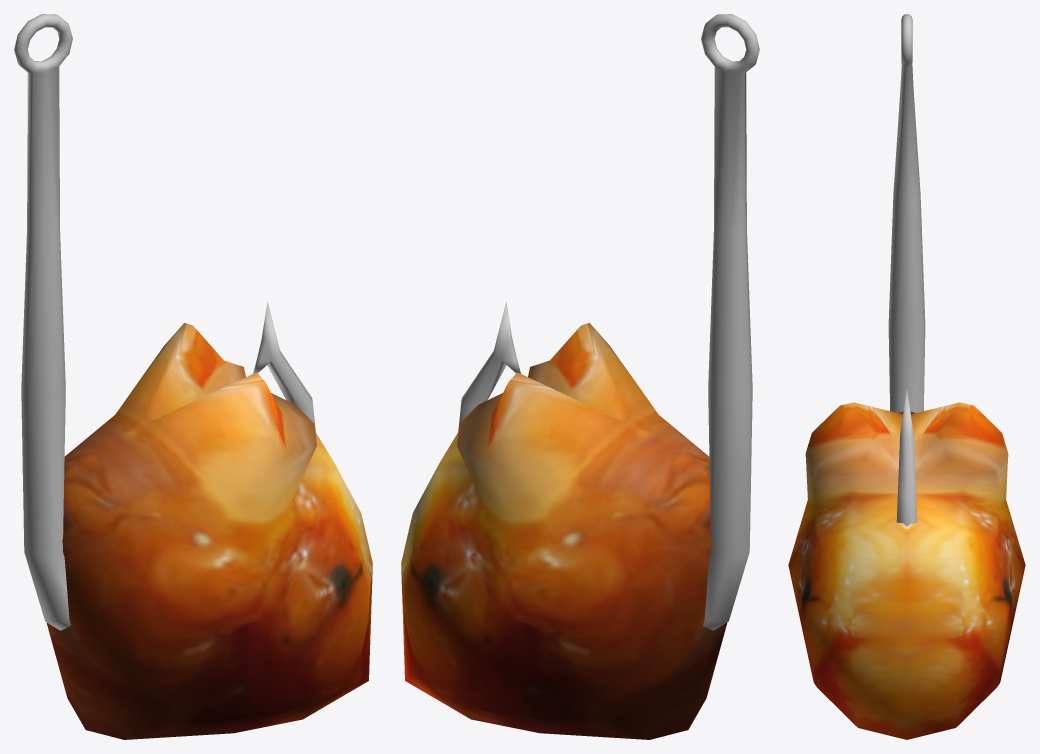
Rendered from Bait_SeaSquirt.fbx.
3 renders of one model, left to right at view 1: azimuth 30°, elevation 25°; view 2: azimuth 150°, elevation 25°; view 3: azimuth 270°, elevation 25°, orthographic. The views are drawn at different scales.
Visible parts, largest first — view 1: Bait_SeaSquirt; view 2: Bait_SeaSquirt; view 3: Bait_SeaSquirt.
Boxes of the visible parts, x1=… form: Bait_SeaSquirt: x1=14, y1=14, x2=372, y2=739; Bait_SeaSquirt: x1=401, y1=14, x2=759, y2=739; Bait_SeaSquirt: x1=788, y1=14, x2=1025, y2=739.
Bounding box in the file's own units: 0.2332 × 0.4949 × 0.1721.
